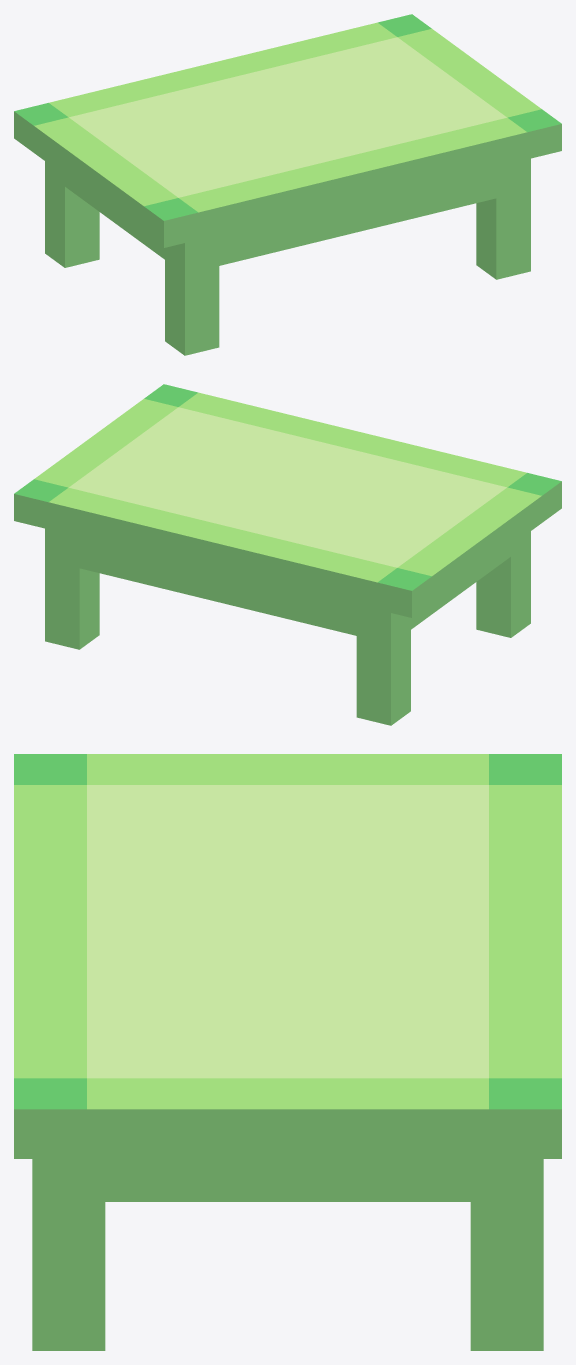
The picture shows the model from 3 angles, top to bottom: view 1: azimuth 30°, elevation 25°; view 2: azimuth 150°, elevation 25°; view 3: azimuth 270°, elevation 25°; orthographic projection. The views are drawn at different scales.
Size of the model in its own units: 2.88 by 1 by 1.88.
Materials: 1 (1 with a texture image).
